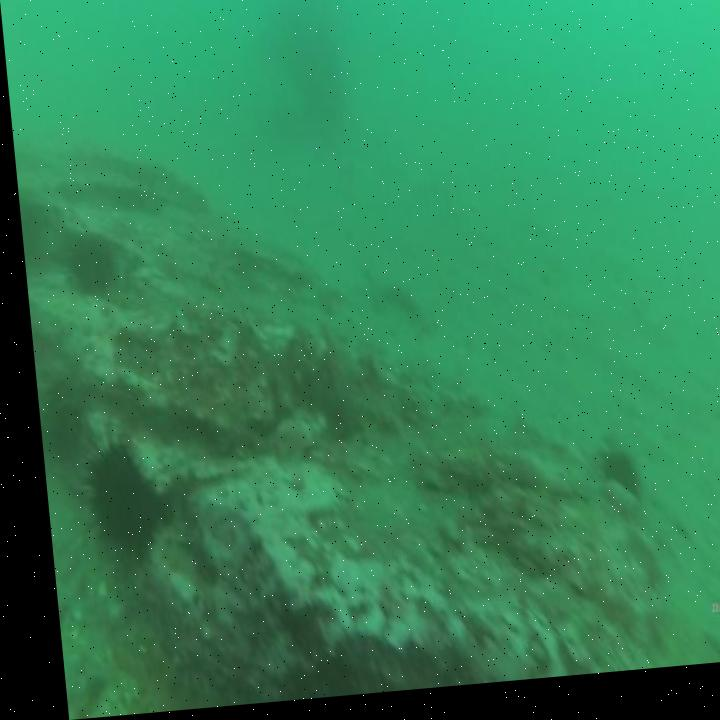echinus: (63, 426, 159, 579), (57, 228, 112, 312), (586, 451, 634, 521), (366, 282, 415, 332)
